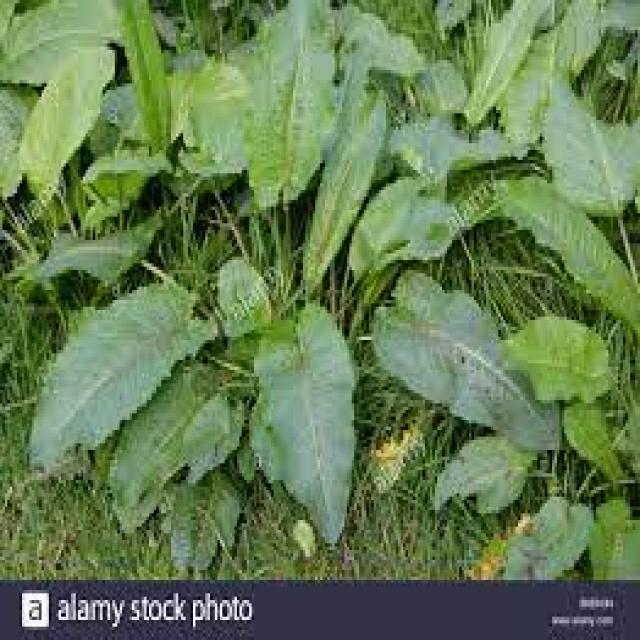organic waste: (120, 40, 493, 543), (564, 120, 640, 613), (444, 0, 640, 170), (5, 0, 203, 140)
